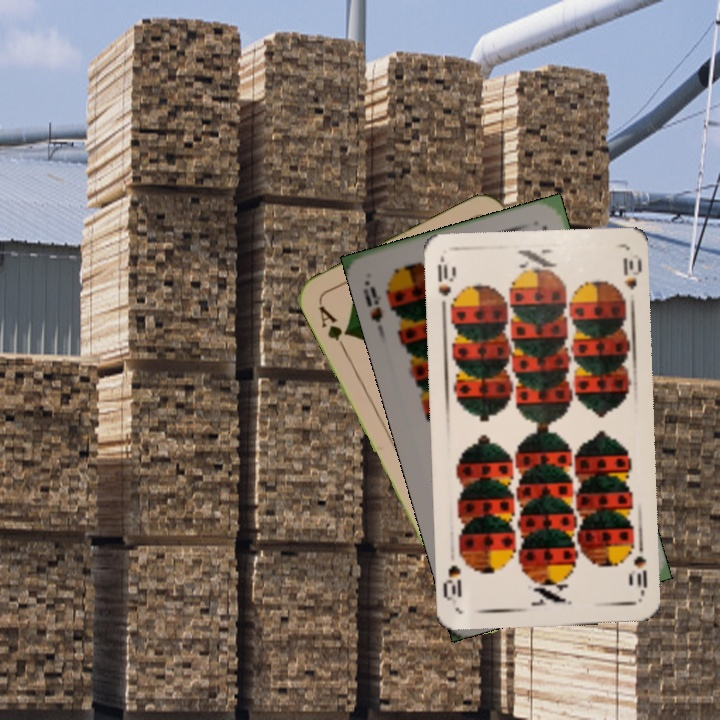GA: (315, 302, 352, 355)
S10: (433, 256, 457, 315), (626, 552, 650, 599)
S8: (366, 282, 385, 325)
